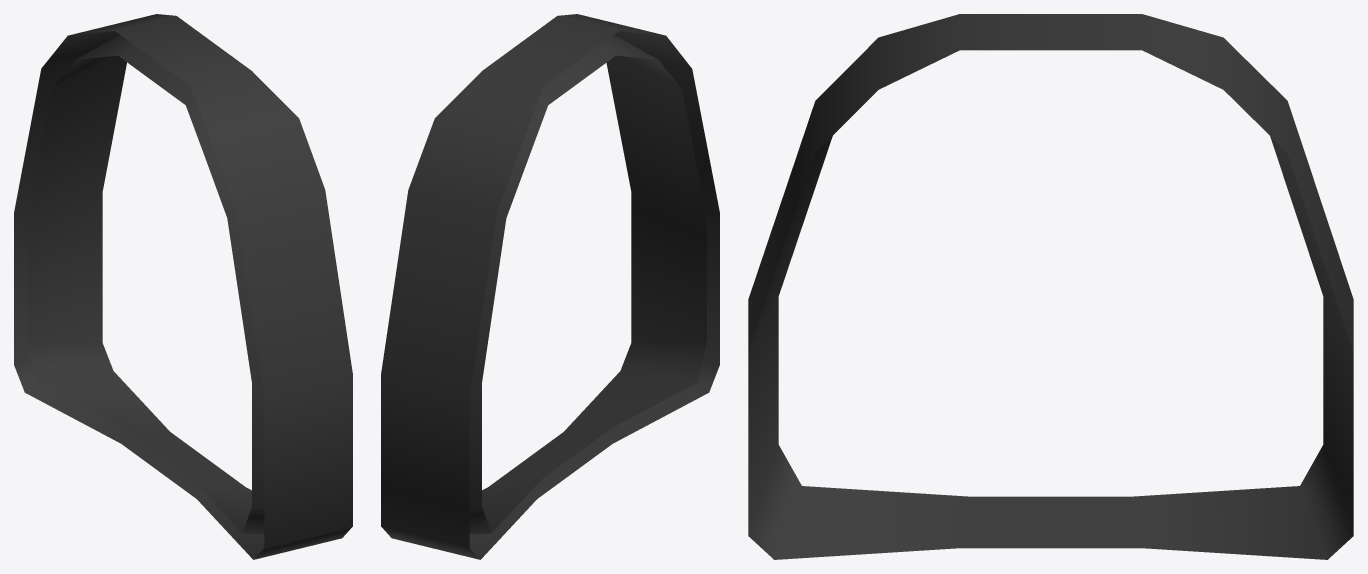
File: metrotrain_connect.fbx
3 renders of one model, left to right at view 1: azimuth 30°, elevation 25°; view 2: azimuth 150°, elevation 25°; view 3: azimuth 270°, elevation 25°, orthographic. The views are drawn at different scales.
Visible parts, largest first — view 1: metrotrain_connect; view 2: metrotrain_connect; view 3: metrotrain_connect.
Part boxes in pixels (box(x1,y1,x2,y2)): metrotrain_connect: box(14, 14, 352, 559); metrotrain_connect: box(381, 14, 719, 559); metrotrain_connect: box(748, 14, 1353, 559).
Bounding box in the file's own units: 51.29 × 229 × 250.
